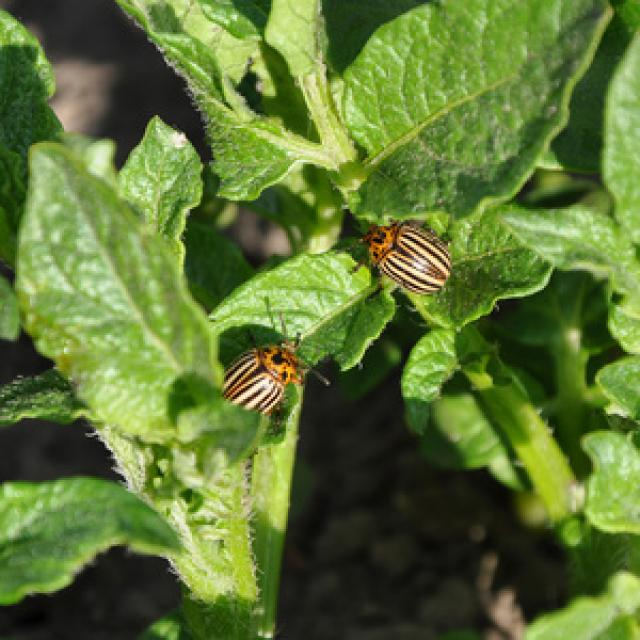ShuCaiHuaBanChong-Grown-: (354, 209, 474, 322), (188, 346, 314, 446)
